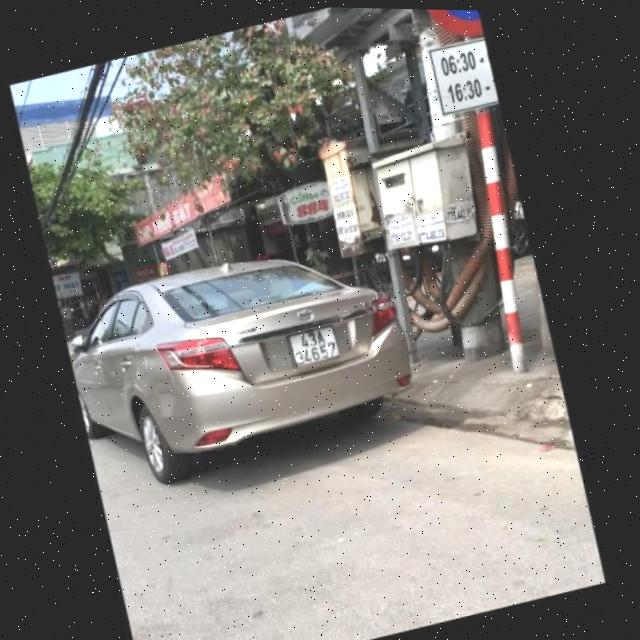car: (51, 228, 438, 511)
plate: (280, 318, 347, 377)
